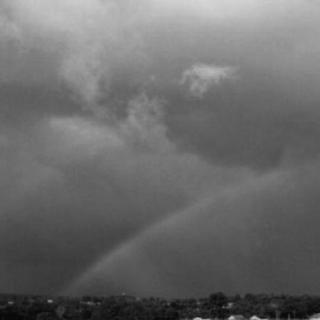Stratus: (0, 0, 320, 217)
